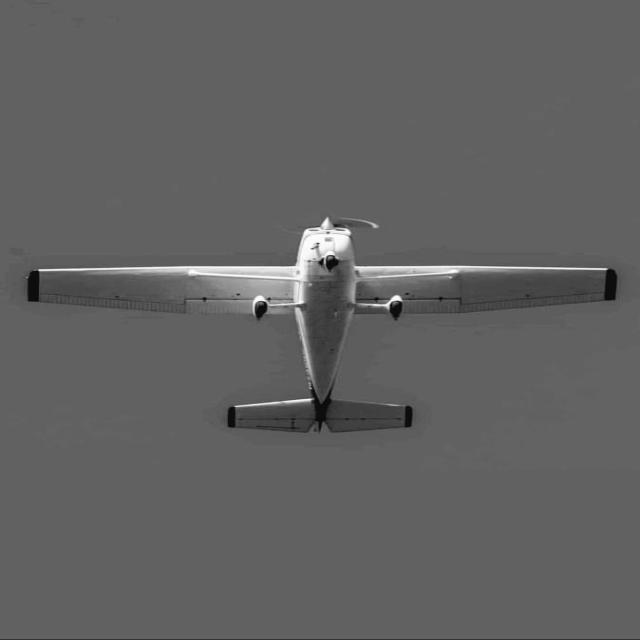iha: (5, 218, 618, 432)
